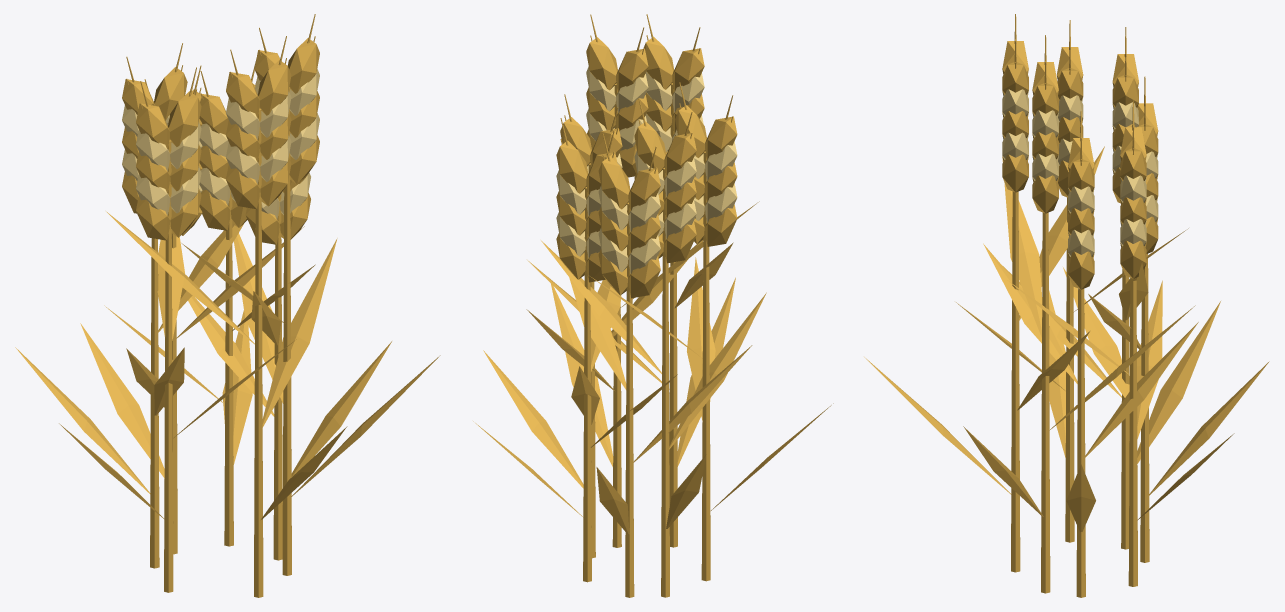
The model's file is wheat_stage_3.glb.
The picture shows the model from 3 angles, left to right: view 1: azimuth 30°, elevation 25°; view 2: azimuth 150°, elevation 25°; view 3: azimuth 270°, elevation 25°; orthographic projection. The views are drawn at different scales.
Visible parts, largest first — view 1: wheat_stage_3_Mesh; view 2: wheat_stage_3_Mesh; view 3: wheat_stage_3_Mesh.
Part boxes in pixels (x1=…): wheat_stage_3_Mesh: x1=15, y1=14, x2=440, y2=597; wheat_stage_3_Mesh: x1=473, y1=14, x2=833, y2=597; wheat_stage_3_Mesh: x1=864, y1=14, x2=1269, y2=597.
Bounding box in the file's own units: 0.6679 × 1 × 0.6801.
